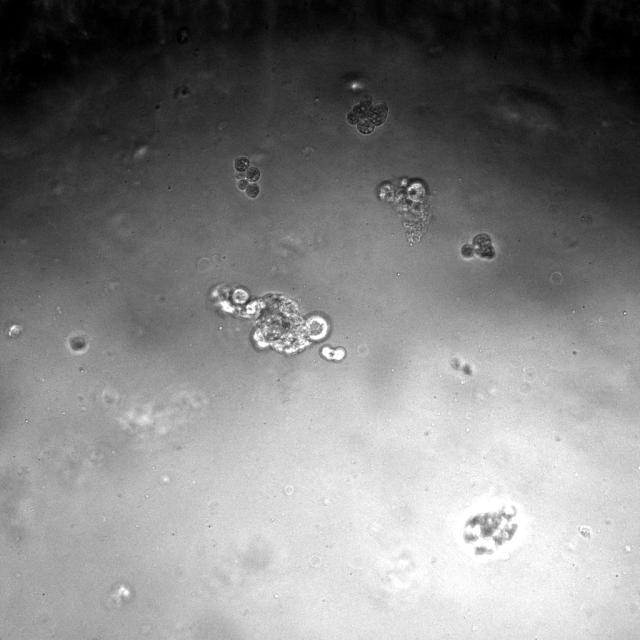organoid: (209, 283, 330, 355), (377, 177, 431, 240), (464, 505, 518, 555), (348, 97, 388, 134), (234, 157, 260, 197), (461, 234, 495, 259), (320, 344, 346, 362), (70, 336, 86, 351)
